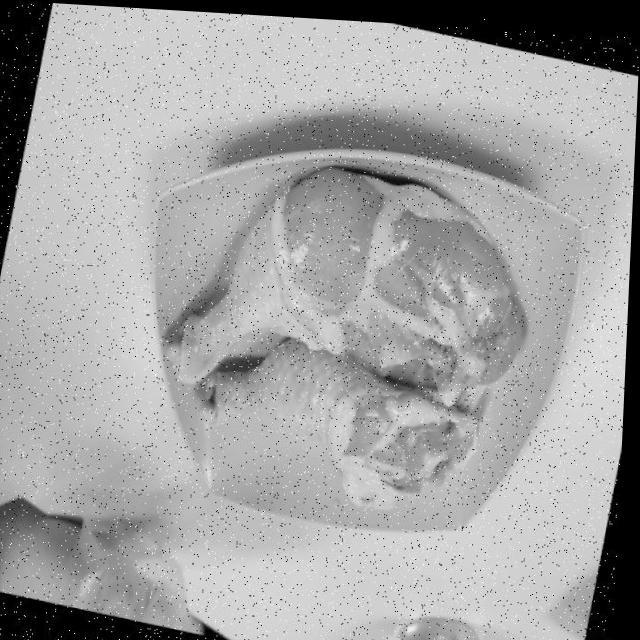quater: (168, 142, 536, 366), (232, 309, 488, 517)
